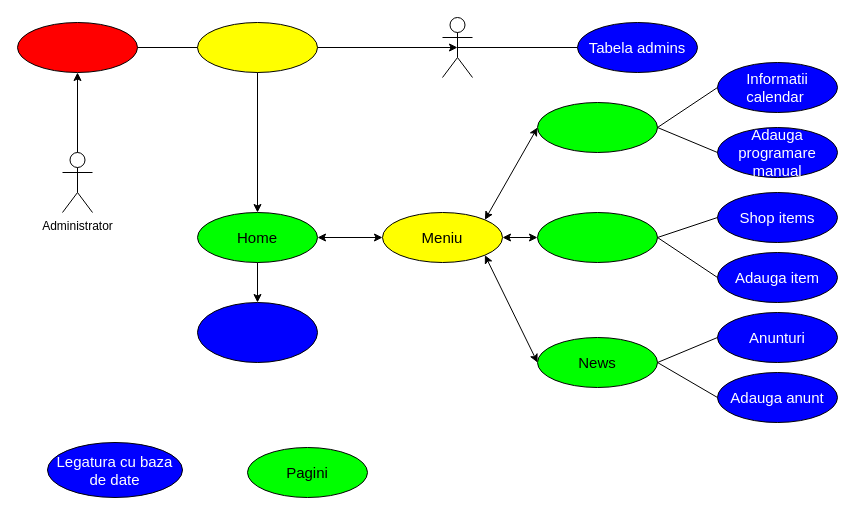
This 855x515 diagram has some shape labels left out. Each missing label, with the centre of its shape:
Acceseaza: pixel 77 47
Autentificare: pixel 257 47
Baza de date: pixel 457 47
Calendar: pixel 597 127
Lista programari Accept/Reject: pixel 257 332
Shop: pixel 597 237
